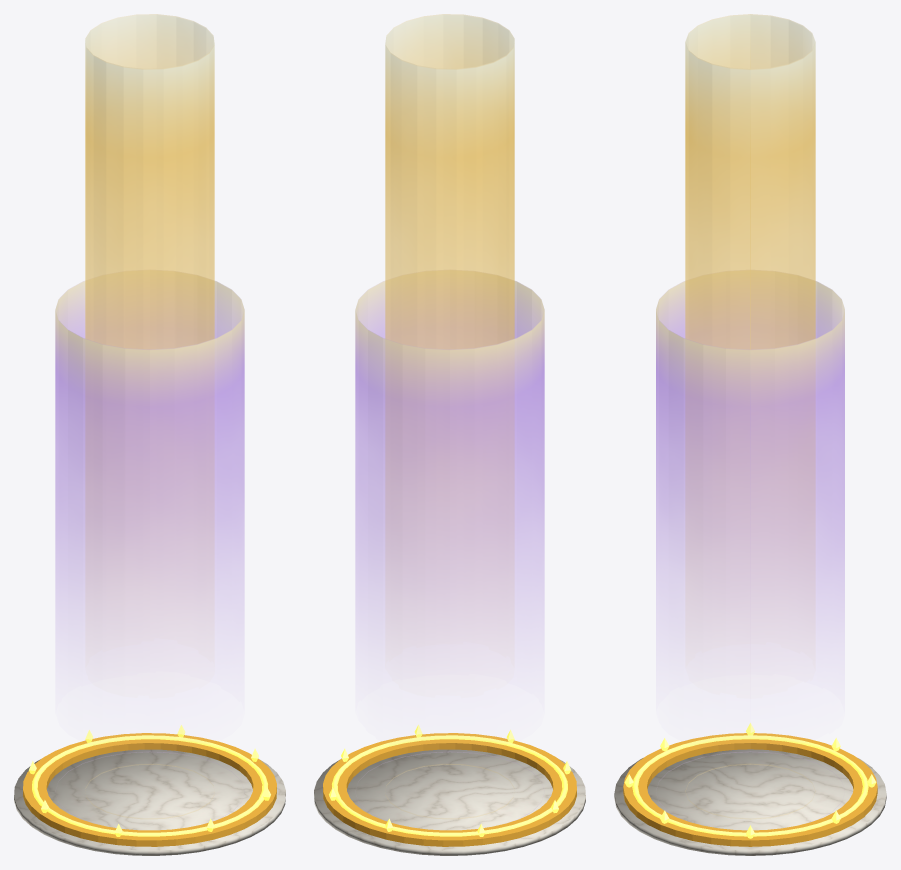
File: ascent_well.glb
The picture shows the model from 3 angles, left to right: view 1: azimuth 30°, elevation 25°; view 2: azimuth 150°, elevation 25°; view 3: azimuth 270°, elevation 25°; orthographic projection.
Visible parts, largest first — view 1: well_gl_beam, well_gl_beam_gold, well_gl_marble, well_gl_gold, well_gl_goldglow, well_gl_crystal_g; view 2: well_gl_beam, well_gl_beam_gold, well_gl_marble, well_gl_gold, well_gl_goldglow, well_gl_crystal_g; view 3: well_gl_beam, well_gl_beam_gold, well_gl_marble, well_gl_gold, well_gl_goldglow, well_gl_crystal_g.
Part boxes in pixels (bbox=[...]): well_gl_beam: bbox=[55, 270, 244, 819]; well_gl_beam_gold: bbox=[85, 14, 214, 818]; well_gl_marble: bbox=[14, 749, 285, 855]; well_gl_gold: bbox=[23, 733, 276, 846]; well_gl_goldglow: bbox=[32, 735, 267, 836]; well_gl_crystal_g: bbox=[29, 725, 270, 836]; well_gl_beam: bbox=[355, 270, 544, 819]; well_gl_beam_gold: bbox=[385, 14, 514, 818]; well_gl_marble: bbox=[314, 749, 585, 855]; well_gl_gold: bbox=[323, 733, 576, 846]; well_gl_goldglow: bbox=[332, 735, 567, 836]; well_gl_crystal_g: bbox=[329, 725, 570, 836]; well_gl_beam: bbox=[656, 270, 844, 818]; well_gl_beam_gold: bbox=[685, 14, 815, 819]; well_gl_marble: bbox=[614, 749, 886, 855]; well_gl_gold: bbox=[623, 733, 877, 846]; well_gl_goldglow: bbox=[632, 735, 868, 836]; well_gl_crystal_g: bbox=[624, 723, 876, 838].
Size of the model in its own units: 4.6 by 14.12 by 4.6.
6 materials, 3 textured.
